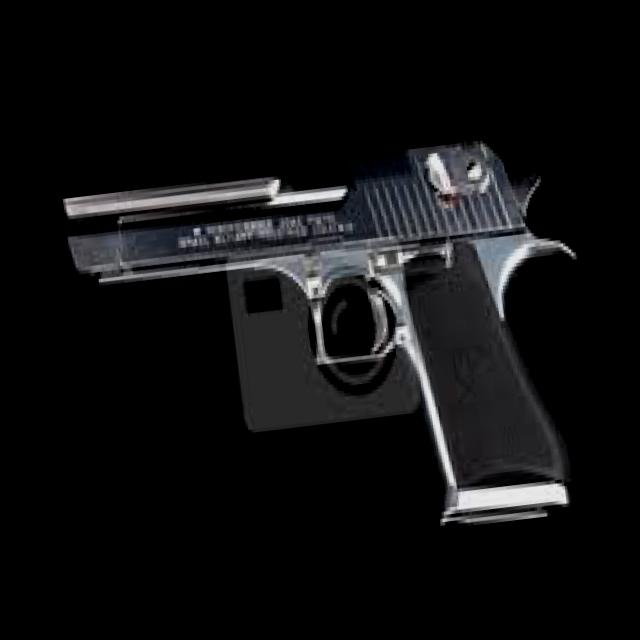handgun: (53, 123, 610, 574)
